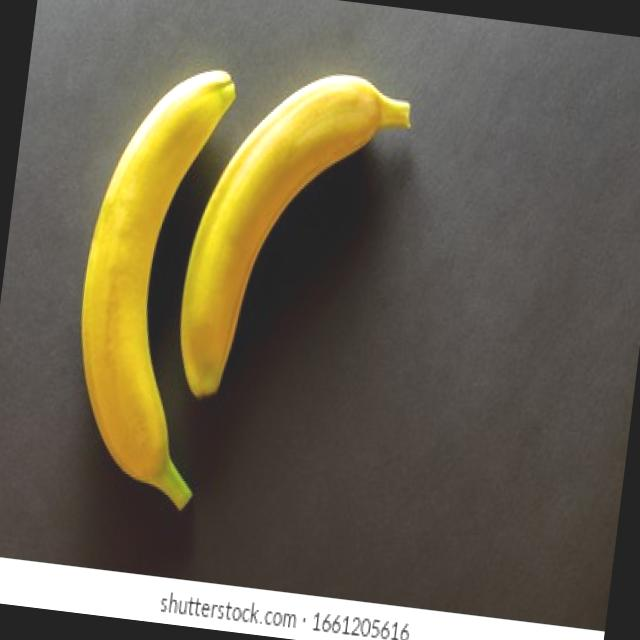banana: (168, 52, 420, 424), (52, 51, 246, 518)
